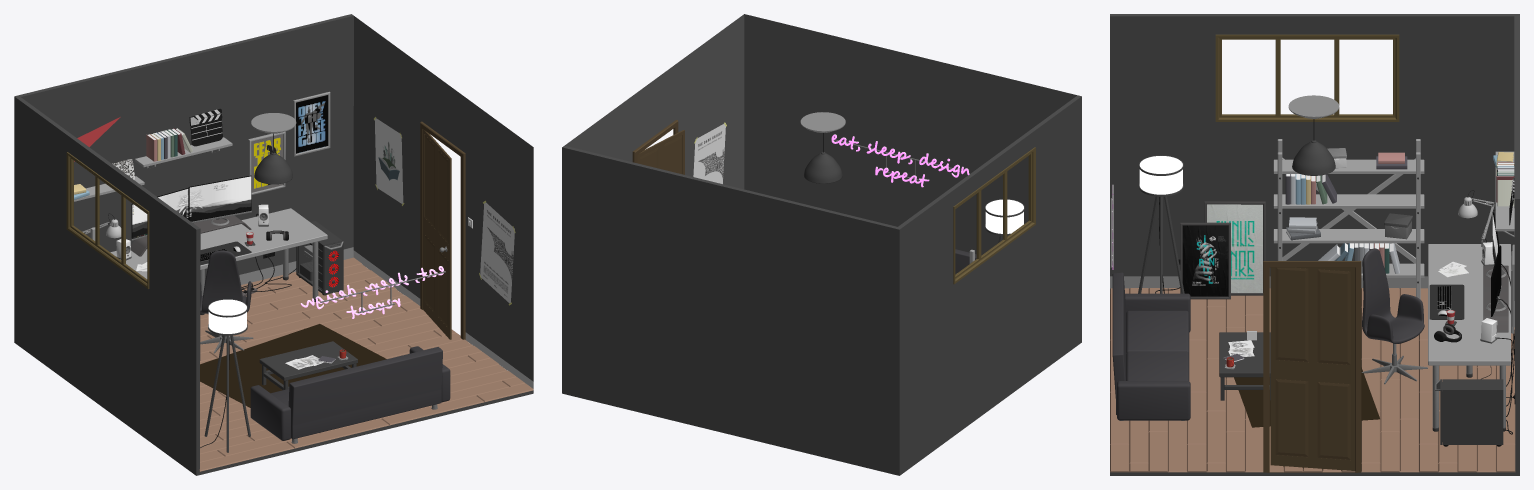
File: basement-office.glb
The picture shows the model from 3 angles, left to right: view 1: azimuth 30°, elevation 25°; view 2: azimuth 150°, elevation 25°; view 3: azimuth 270°, elevation 25°; orthographic projection. The views are drawn at different scales.
Visible parts, largest first — view 1: Object_49, Object_51, Object_28, Object_110, Object_84, Object_83, Object_3, Object_85, Object_32, Object_44, Object_82, Object_31 (+15 smaller); view 2: Object_49, Object_51, Object_85, Object_84, Object_32, Object_30, Object_99, Object_113, Object_105; view 3: Object_49, Object_28, Object_84, Object_83, Object_110, Object_85, Object_78, Object_25, Object_26, Object_113, Object_82, Object_3 (+18 smaller).
Boxes of the visible parts, x1,y1,x2,y2 form: Object_49: [14, 14, 533, 475]; Object_51: [353, 16, 533, 381]; Object_28: [199, 257, 533, 471]; Object_110: [200, 250, 450, 440]; Object_84: [420, 121, 465, 339]; Object_83: [74, 137, 327, 278]; Object_3: [200, 324, 386, 407]; Object_85: [66, 152, 149, 288]; Object_32: [480, 202, 514, 303]; Object_44: [189, 176, 251, 221]; Object_82: [259, 341, 357, 389]; Object_31: [374, 118, 403, 203]; Object_49: [562, 95, 1081, 475]; Object_51: [565, 14, 1076, 255]; Object_85: [953, 147, 1035, 284]; Object_84: [632, 120, 684, 174]; Object_32: [693, 123, 725, 183]; Object_30: [985, 199, 1023, 233]; Object_99: [803, 151, 842, 183]; Object_113: [800, 112, 845, 132]; Object_105: [831, 135, 968, 177]; Object_49: [1110, 14, 1519, 475]; Object_28: [1110, 288, 1515, 472]; Object_84: [1263, 261, 1361, 472]; Object_83: [1273, 139, 1514, 365]; Object_110: [1112, 248, 1424, 420]; Object_85: [1215, 34, 1399, 121]; Object_78: [1279, 177, 1503, 444]; Object_25: [1182, 225, 1228, 296]; Object_26: [1207, 204, 1262, 292]; Object_113: [1110, 95, 1427, 288]; Object_82: [1219, 332, 1270, 400]; Object_3: [1234, 367, 1379, 427].
Size of what is drawn, in the model's own units: 4.39 by 3.05 by 4.09.
Materials: 90 (15 with a texture image).
